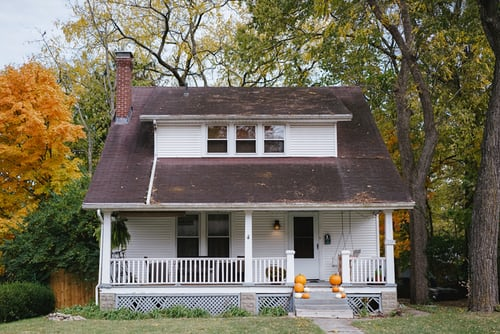house: (98, 49, 406, 317)
